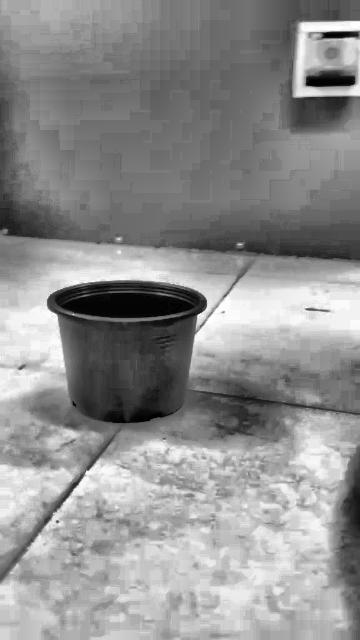pot: (48, 281, 206, 422)
